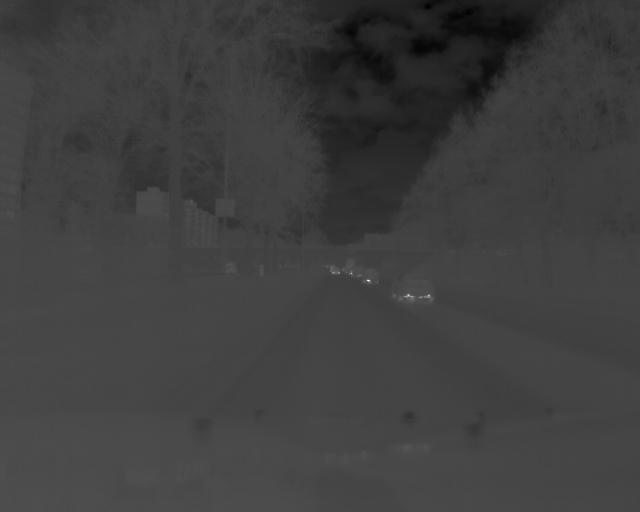car: (391, 273, 437, 303), (359, 265, 383, 286), (329, 265, 343, 276)
